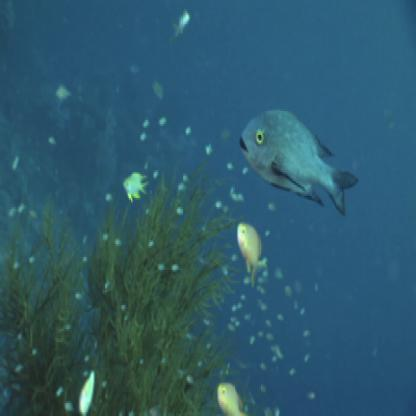damsel: (122, 169, 154, 210)
snapper: (237, 99, 361, 227)
